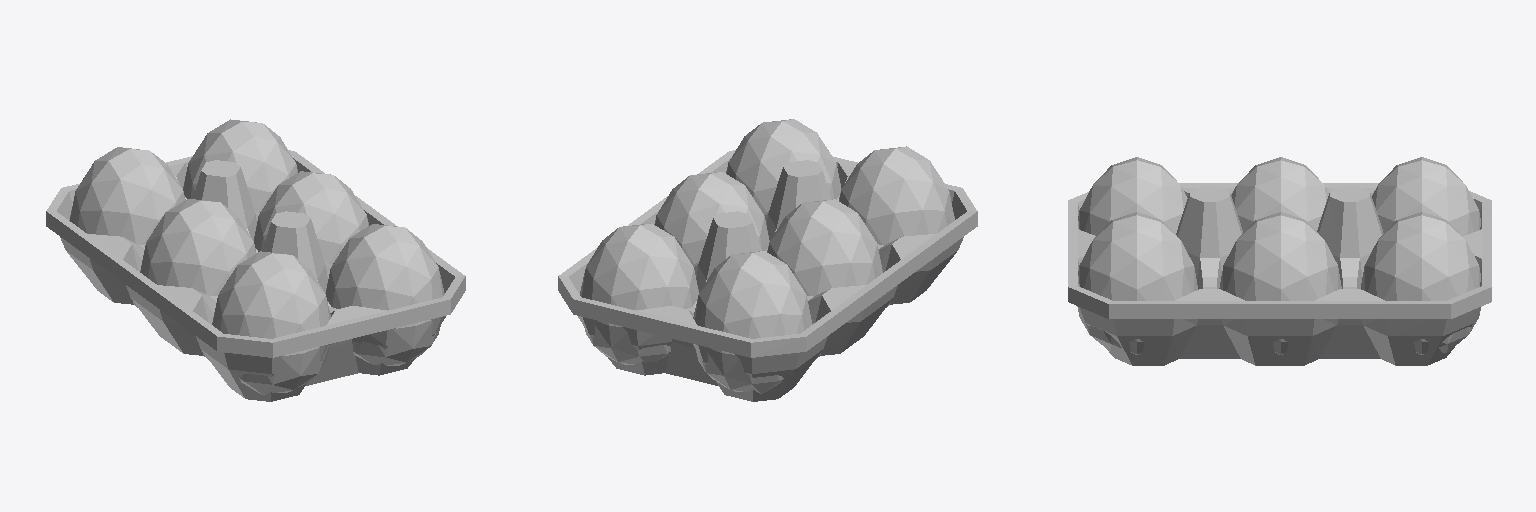
Rendered from Tapa_con_huevos.obj.
3 renders of one model, left to right at view 1: azimuth 30°, elevation 25°; view 2: azimuth 150°, elevation 25°; view 3: azimuth 270°, elevation 25°, orthographic.
Visible parts, largest first — view 1: hypercasual_prop025; view 2: hypercasual_prop025; view 3: hypercasual_prop025.
Part boxes in pixels (bbox=[...]): hypercasual_prop025: bbox=[46, 119, 465, 401]; hypercasual_prop025: bbox=[558, 119, 977, 401]; hypercasual_prop025: bbox=[1068, 157, 1491, 365].
Size of the model in its own units: 1.13 by 0.5961 by 1.67.